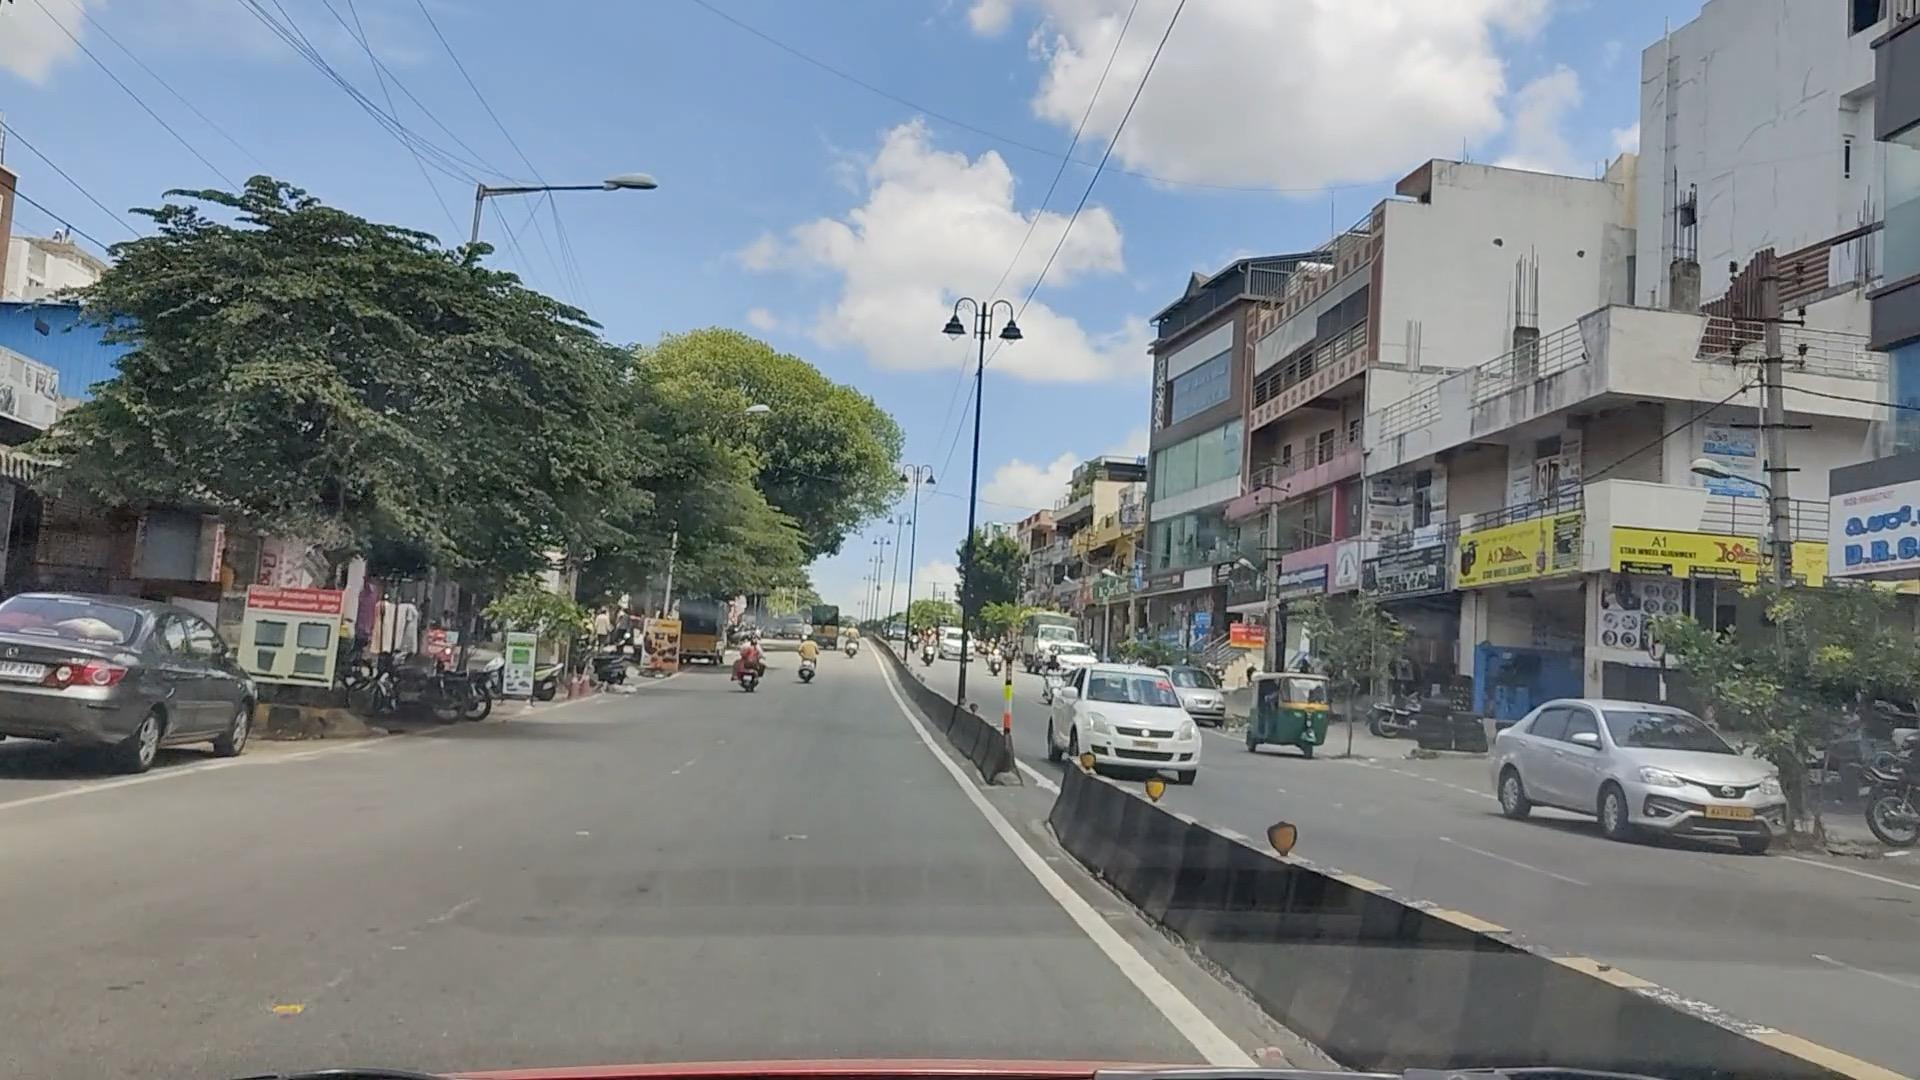LMV: (44, 593, 210, 746), (1060, 661, 1209, 775)
